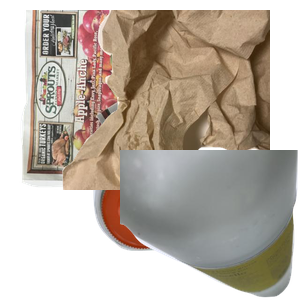glass: (120, 150, 300, 300)
paper: (18, 10, 258, 190)
plastic: (91, 152, 281, 300)
trash: (60, 10, 300, 190)
